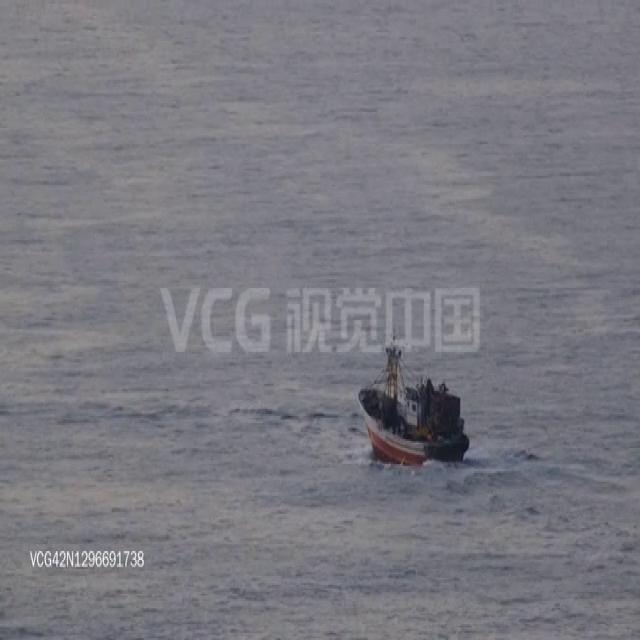houseboat: (360, 342, 467, 475)
